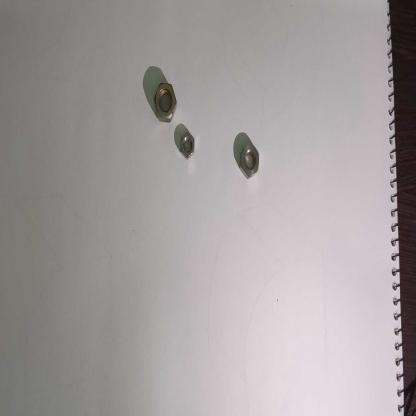NUTS: (151, 76, 180, 123), (238, 136, 262, 184), (178, 127, 198, 163)
